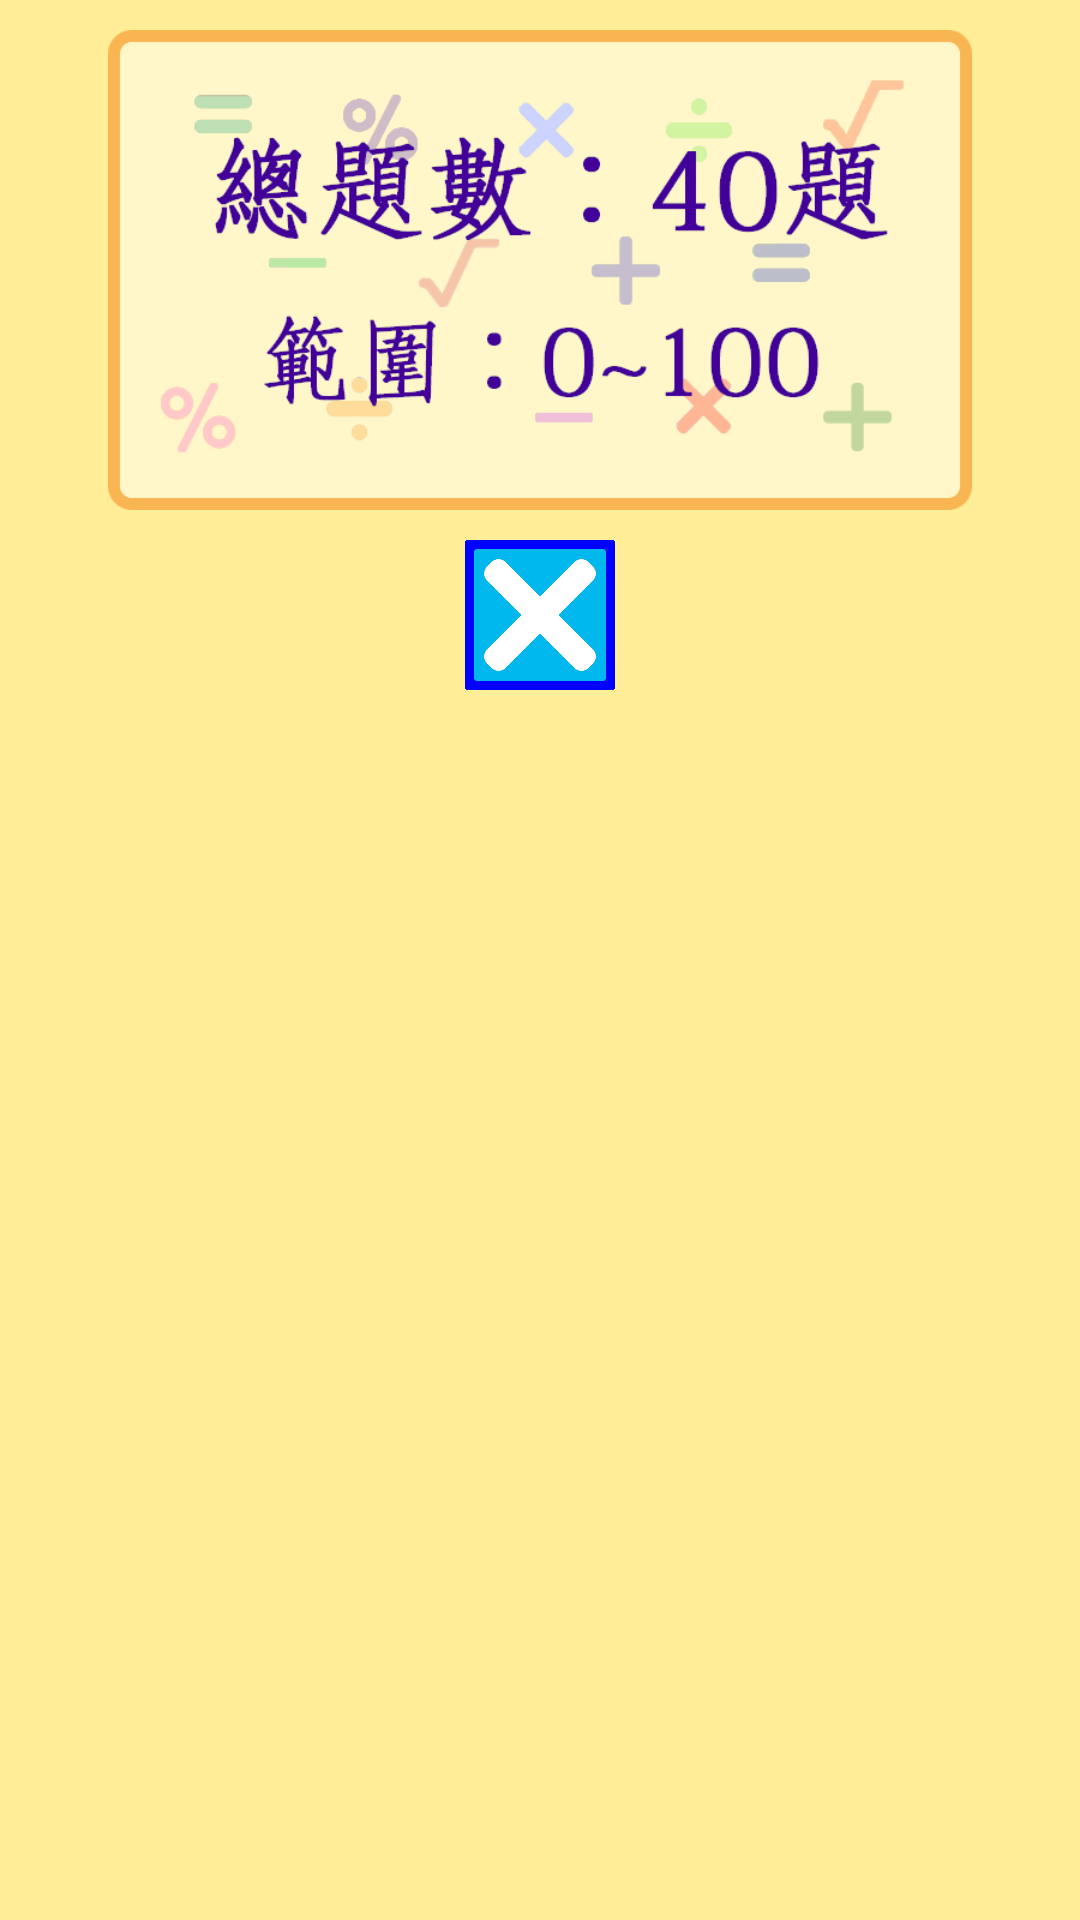

Named icons in this screenshot (1080 × 1920) and their centers, (x=x, y=y):
btnno: (x=540, y=615)
